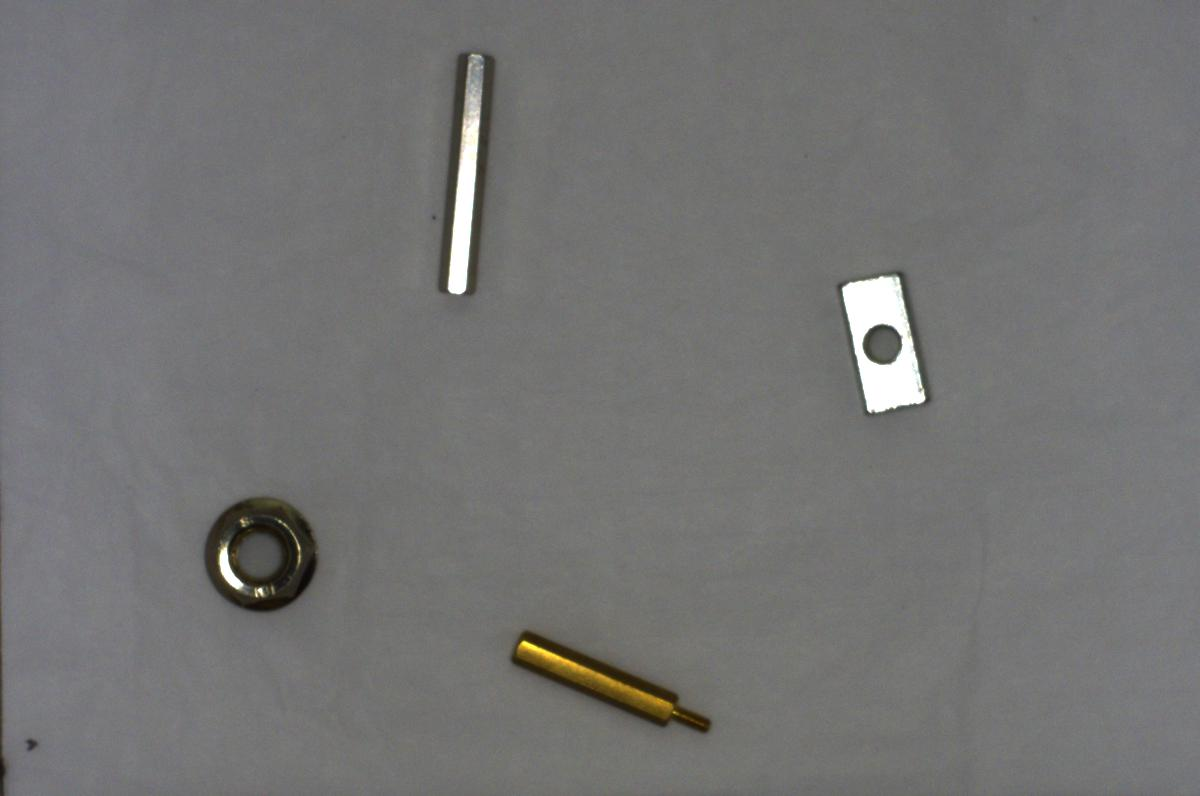Double hexagonal column: (422, 41, 498, 307)
Flange nut: (186, 483, 330, 618)
Hexagon pillar: (501, 610, 717, 754)
Rectangular nut: (827, 255, 944, 430)
